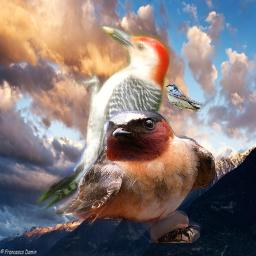Swallow: (55, 110, 215, 243), (165, 84, 203, 113)
Woodpecker: (31, 18, 170, 218)
